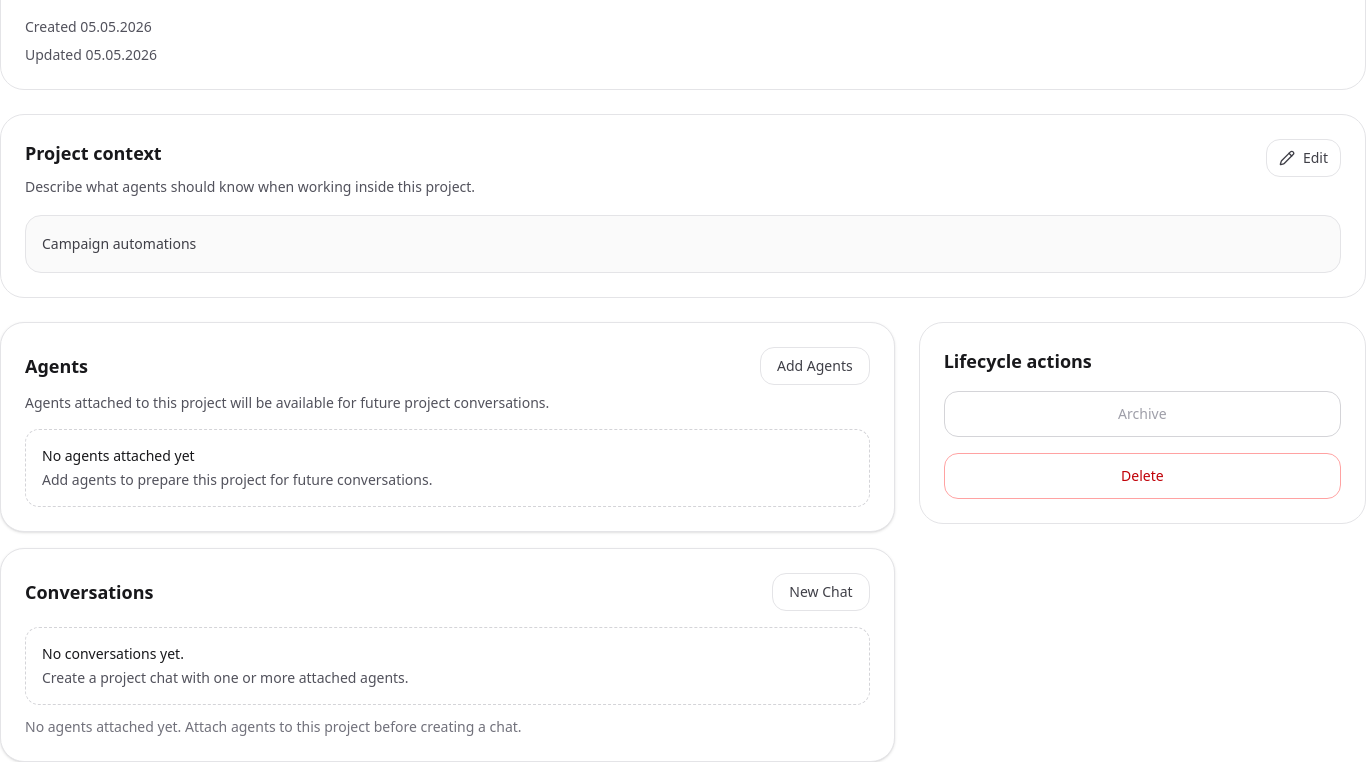
Scenario: AgentProjectDetailsPage › opens new chat and shows empty attached agents hint
(page scrolled)
Click the button "New Chat" at (821, 592), box [772,573,870,611]
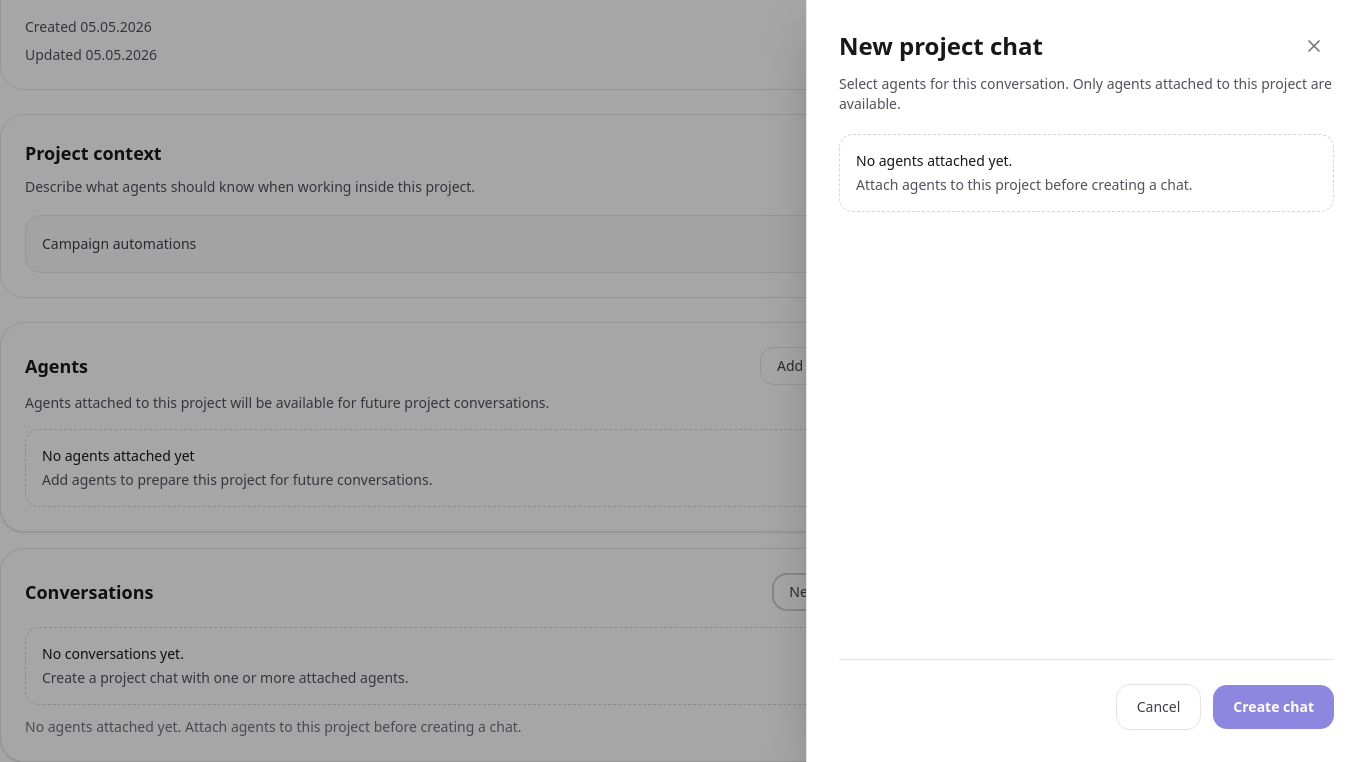
Result: the text "No agents attached yet." is shown at [856,151,1012,170]
Result: the button "Create chat" is disabled at [1213,685,1334,729]
